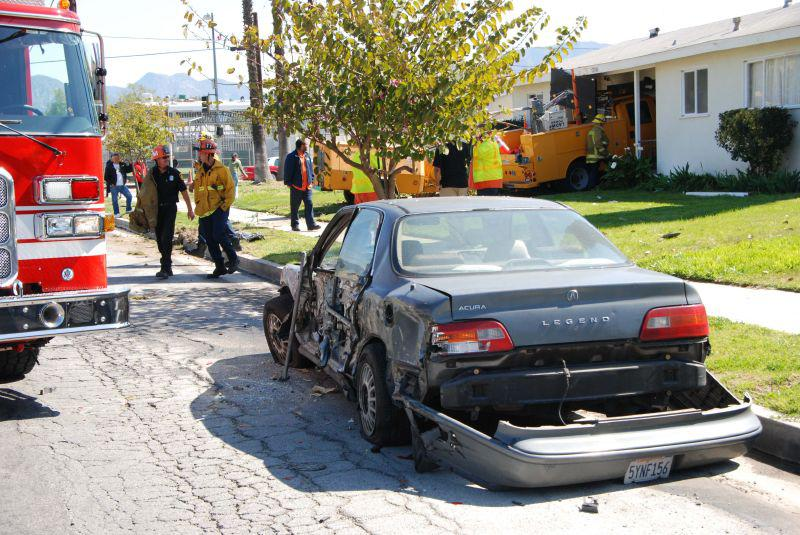doorouter-dent: (289, 264, 328, 344)
quaterpanel-dent: (373, 287, 429, 359)
rear-bumper-dent: (476, 356, 715, 431)
